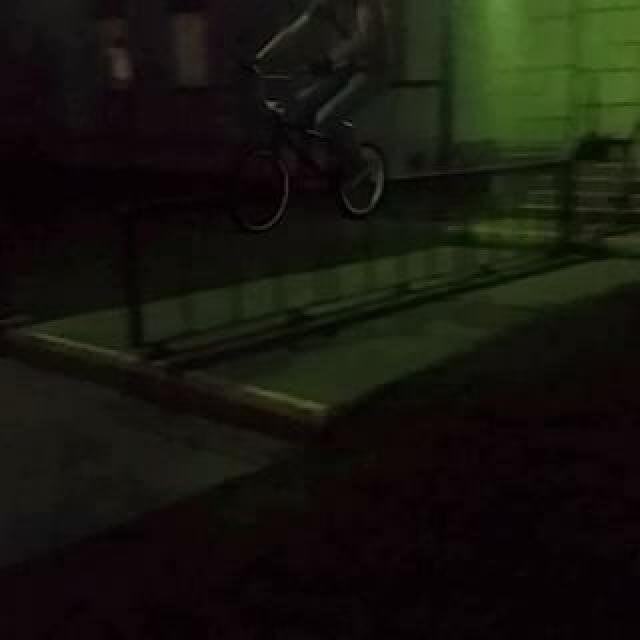Bicycle: (217, 99, 412, 245)
People: (270, 0, 374, 218)
